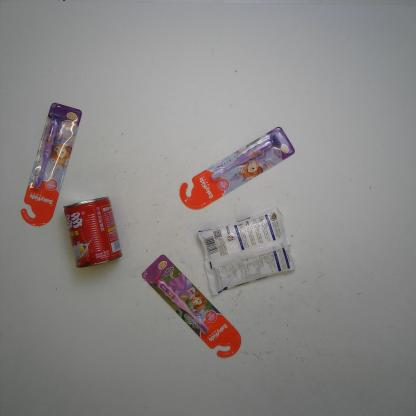Canned Food: (62, 195, 123, 269)
Personal Hygiene: (140, 254, 243, 360), (178, 127, 296, 212), (20, 102, 83, 228)
Seasoner: (198, 207, 295, 297)
